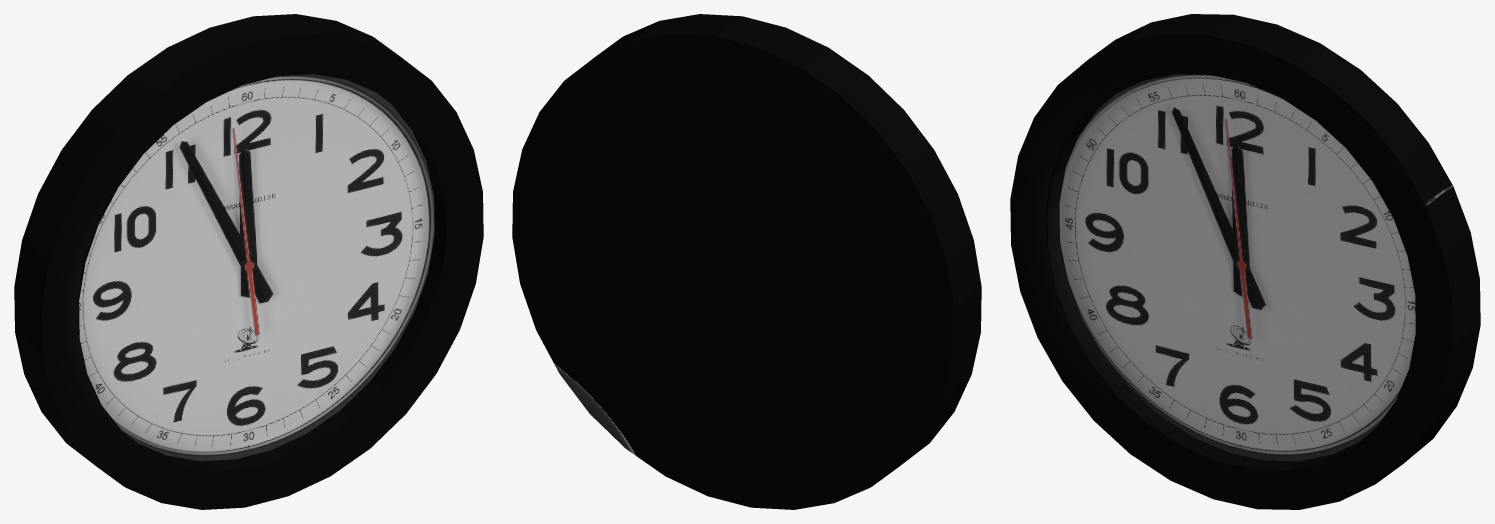
File: Reloj_prefab.fbx
The picture shows the model from 3 angles, left to right: view 1: azimuth 30°, elevation 25°; view 2: azimuth 150°, elevation 25°; view 3: azimuth 330°, elevation 25°; orthographic projection.
Visible parts, largest first — view 1: Circle; view 2: Circle; view 3: Circle.
Part boxes in pixels (bbox=[...]): Circle: bbox=[14, 14, 483, 509]; Circle: bbox=[512, 14, 981, 509]; Circle: bbox=[1010, 14, 1480, 509].
Bounding box in the file's own units: 199 × 199 × 21.53.
Materials: 1 (1 with a texture image).
